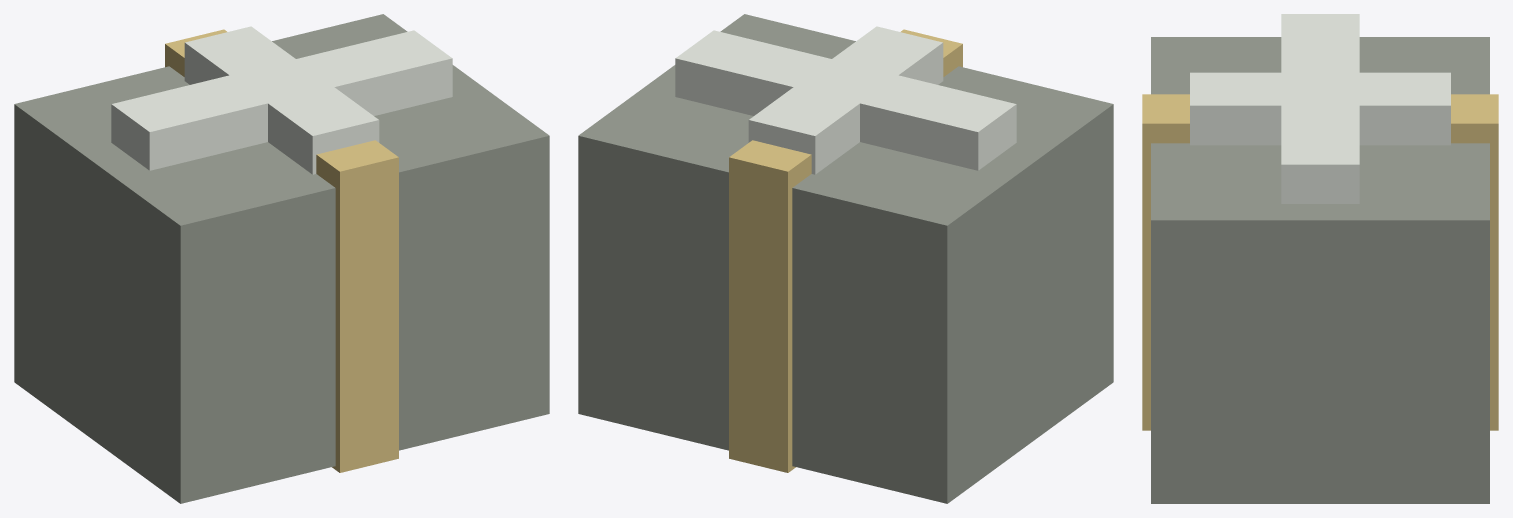
The model's file is loot_repair_crate_m201.glb.
3 renders of one model, left to right at view 1: azimuth 30°, elevation 25°; view 2: azimuth 150°, elevation 25°; view 3: azimuth 270°, elevation 25°, orthographic.
Visible parts, largest first — view 1: RepairCrate, RepairBand, RepairMarkH, RepairMarkV; view 2: RepairCrate, RepairBand, RepairMarkH, RepairMarkV; view 3: RepairCrate, RepairMarkH, RepairMarkV, RepairBand.
Boxes of the visible parts, x1=… form: RepairCrate: x1=14, y1=14, x2=549, y2=503; RepairBand: x1=165, y1=29, x2=398, y2=472; RepairMarkH: x1=111, y1=30, x2=452, y2=170; RepairMarkV: x1=184, y1=26, x2=379, y2=174; RepairCrate: x1=578, y1=14, x2=1113, y2=503; RepairBand: x1=729, y1=29, x2=962, y2=472; RepairMarkH: x1=675, y1=30, x2=1016, y2=170; RepairMarkV: x1=748, y1=26, x2=943, y2=174; RepairCrate: x1=1151, y1=37, x2=1489, y2=503; RepairMarkH: x1=1281, y1=14, x2=1359, y2=203; RepairMarkV: x1=1190, y1=72, x2=1450, y2=145; RepairBand: x1=1142, y1=94, x2=1498, y2=430.
Size of the model in its own units: 1 by 0.83 by 0.82.
